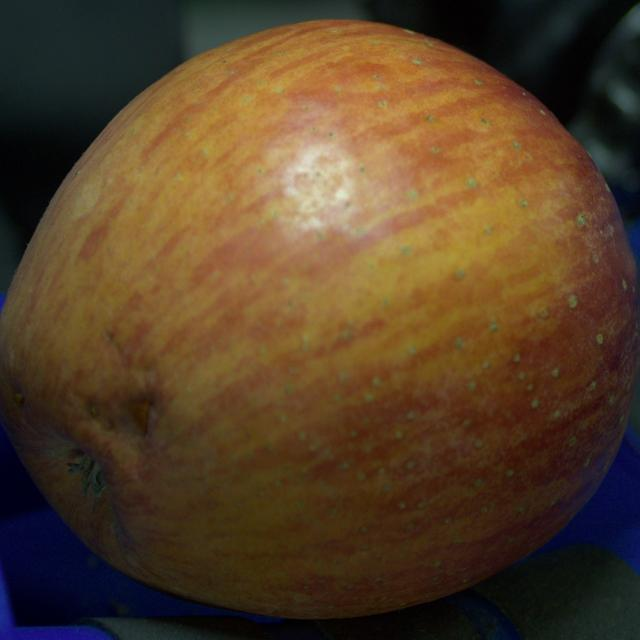apple: (0, 19, 639, 618)
pest: (131, 400, 149, 434), (14, 393, 23, 405), (89, 406, 97, 416)
